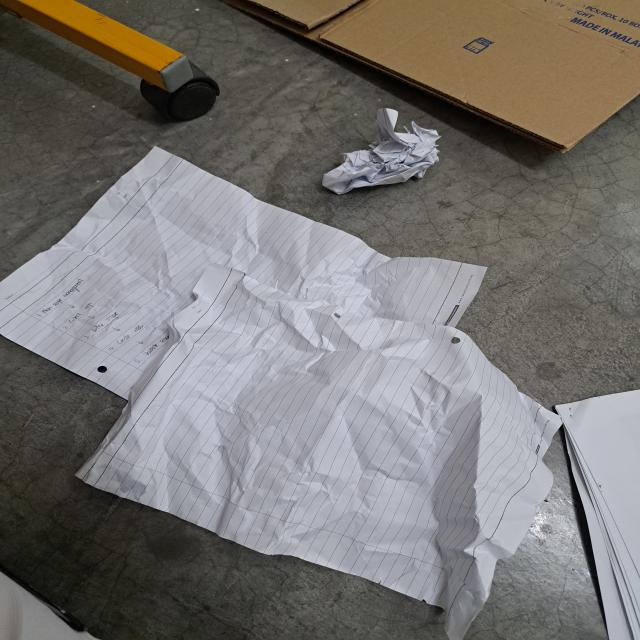cardboard: (216, 0, 640, 159)
paper: (71, 263, 566, 640), (0, 146, 489, 402), (553, 388, 640, 640), (324, 108, 443, 195)
